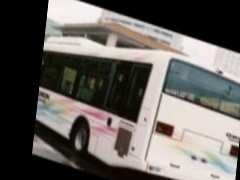bus: (29, 12, 240, 180)
